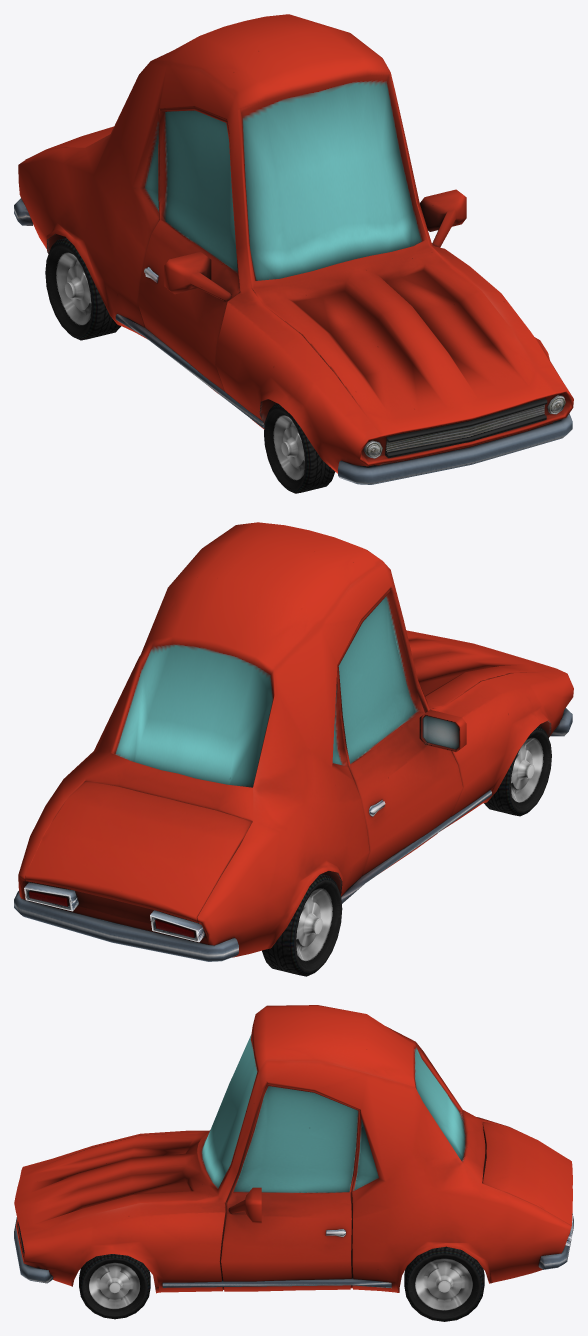
Rendered from RedCar.fbx.
3 renders of one model, top to bottom at view 1: azimuth 30°, elevation 25°; view 2: azimuth 150°, elevation 25°; view 3: azimuth 270°, elevation 25°, orthographic. The views are drawn at different scales.
Parts seen in each view (by area): view 1: car, polySurface4, polySurface2; view 2: car, polySurface4, polySurface2; view 3: car, polySurface3, polySurface1.
Boxes of the visible parts, box(x1,y1,x2,y2) form: car: box(14, 14, 573, 484); polySurface4: box(45, 238, 121, 340); polySurface2: box(264, 403, 334, 493); car: box(14, 522, 573, 961); polySurface4: box(262, 874, 342, 976); polySurface2: box(484, 726, 551, 816); car: box(14, 1005, 573, 1293); polySurface3: box(404, 1246, 484, 1321); polySurface1: box(79, 1254, 150, 1319).
Size of the model in its own units: 14.02 by 15.06 by 29.8.
